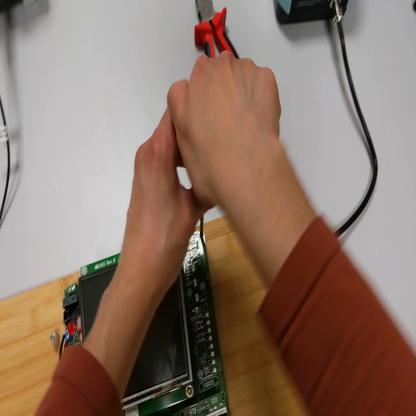hand: (123, 93, 208, 299), (173, 52, 283, 210)
low voltage board: (58, 233, 231, 415)
pliers: (196, 2, 241, 62)
screwdriver-: (200, 206, 208, 235)
welder station: (275, 2, 349, 30)
working area: (2, 218, 313, 416)
